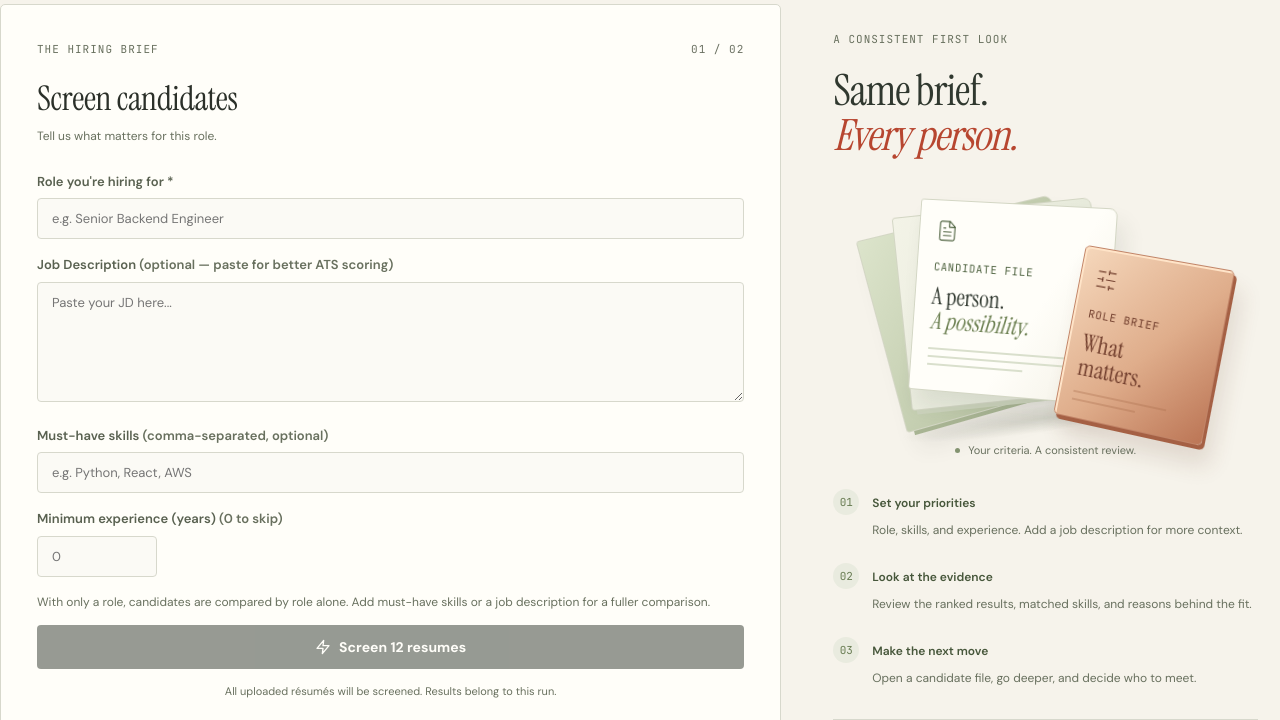
it: the role is required › the button is disabled until a role is typed
The width and height of the screenshot is (1280, 720).
expect the button "Screen 12 resumes" is disabled: met, box x1=37 y1=625 x2=744 y2=669
In the field with placeholder "e.g. Senior Backend Engineer": (391, 219) x1=37 y1=198 x2=744 y2=239, type "Backend Engineer"
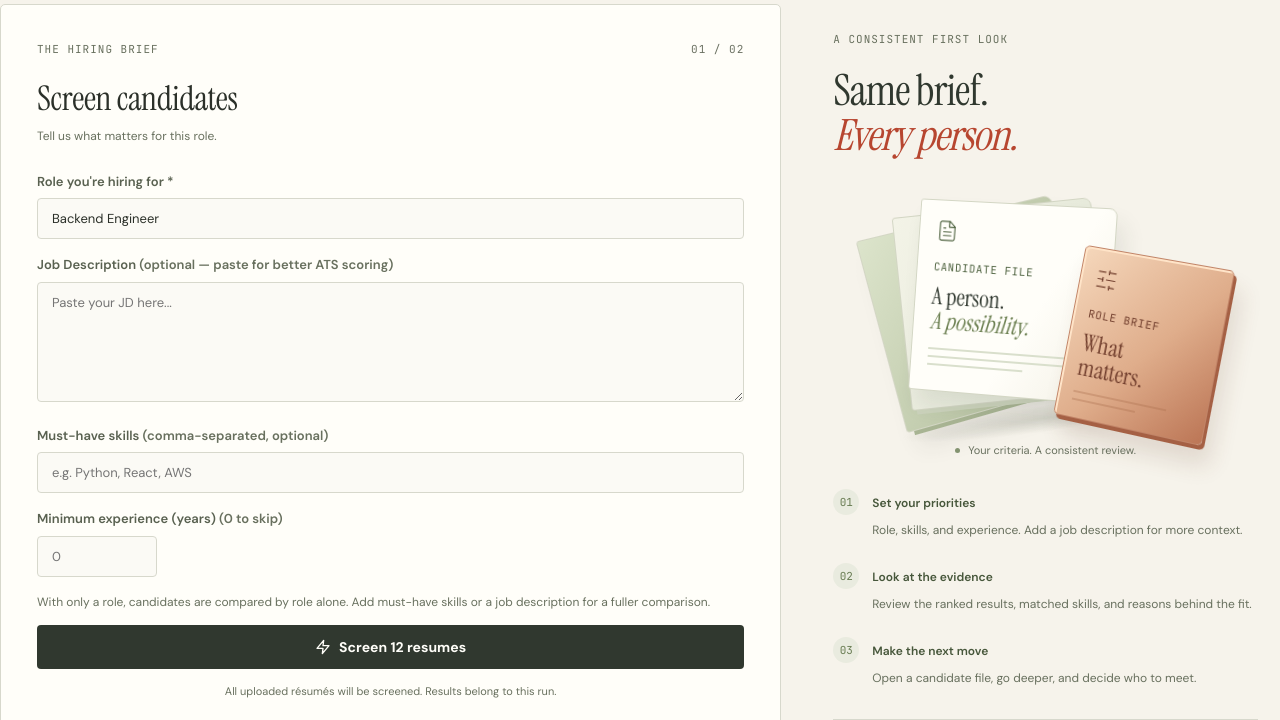
expect the button "Screen 12 resumes" is enabled: met, box x1=37 y1=625 x2=744 y2=669
